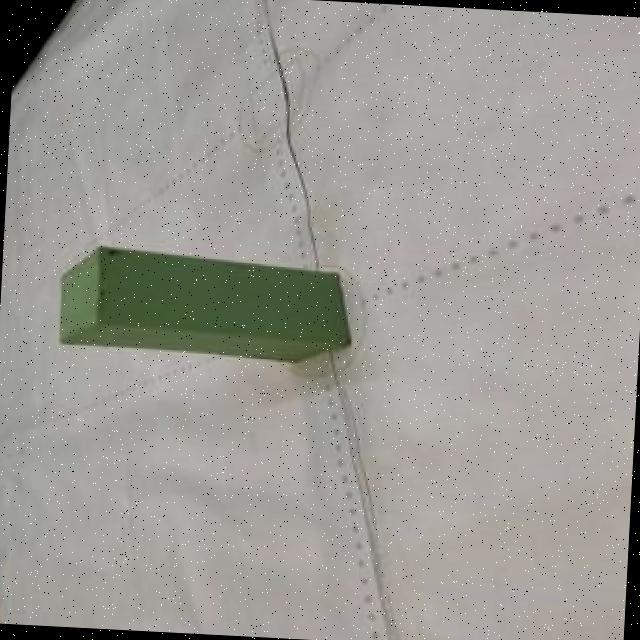greenbox: (55, 244, 358, 365)
